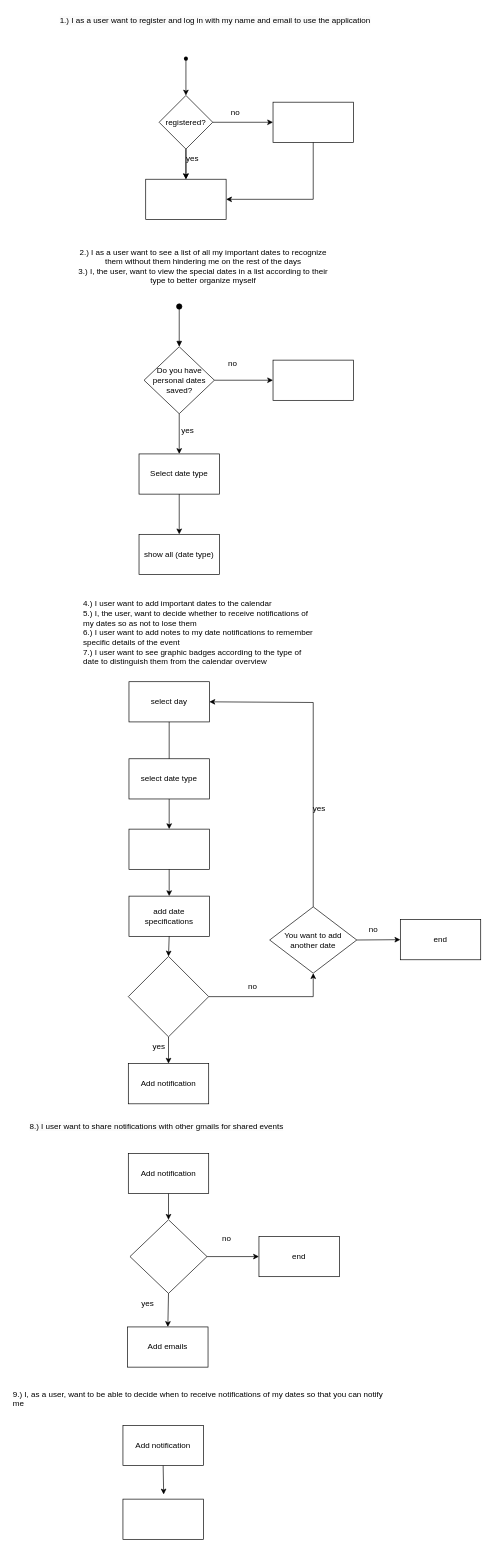
Image size: 492x1551. Some labels were removed from this diagram. The centre of each missing label's shape, as x and y in pixels:
add graphic badge: [168,848]
add time and date: [162,1518]
log in: [185,199]
register: [312,122]
Share notification?: [168,1256]
show global dates: [312,379]
would like to receive notification of the added date: [168,996]
